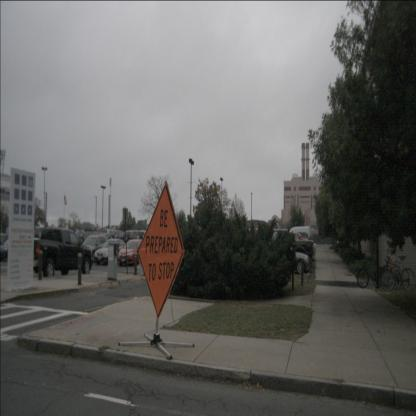vehicle-car: (256, 230, 314, 264), (265, 245, 312, 275), (267, 232, 314, 257), (94, 238, 129, 266), (0, 236, 31, 263), (78, 235, 107, 263), (117, 239, 145, 266), (285, 232, 314, 251), (287, 226, 310, 242), (112, 230, 127, 241), (101, 228, 113, 236)
vehicle-truck: (22, 228, 92, 279)
